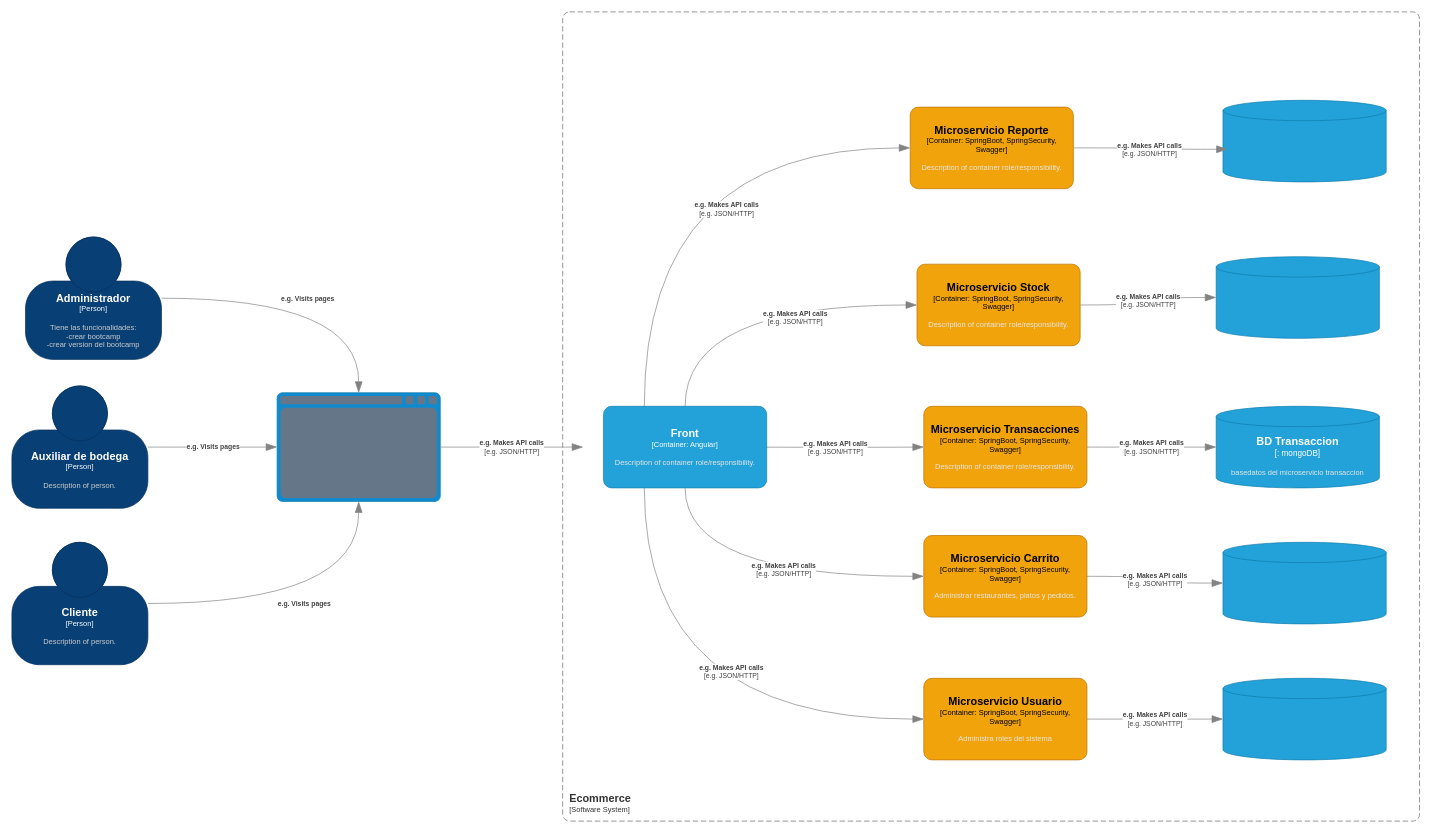
The diagram is 1431 pixels wide and 833 high, and some of its shapes have lost their labels. Each missing label, with the centre of its shape:
"BD Carrito [: mysql] basedatos del microservicio carrito" goes at point (1304, 583).
"BD Reporte [: MongoDB] basedatos del microservicio reporte" goes at point (1304, 141).
"BD Stock [: Mysql] basedatos del microservicio Stock" goes at point (1297, 297).
"BD Usuario [: mysql] basedatos del microservicio usuario" goes at point (1304, 719).
"NAVEGADOR [: JavaScript, Angular, React etc.] Front Web o Mobile" goes at point (358, 447).
